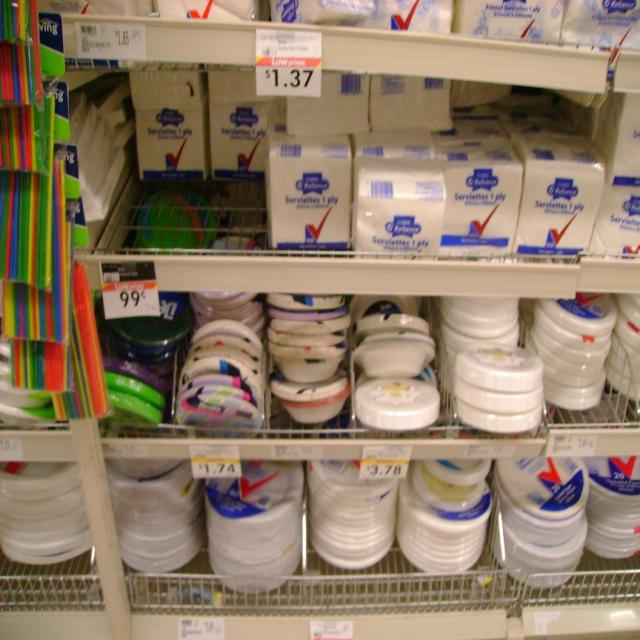q293: (433, 142, 520, 259), (519, 148, 608, 258), (270, 136, 348, 258), (131, 81, 209, 193), (205, 61, 272, 177)
